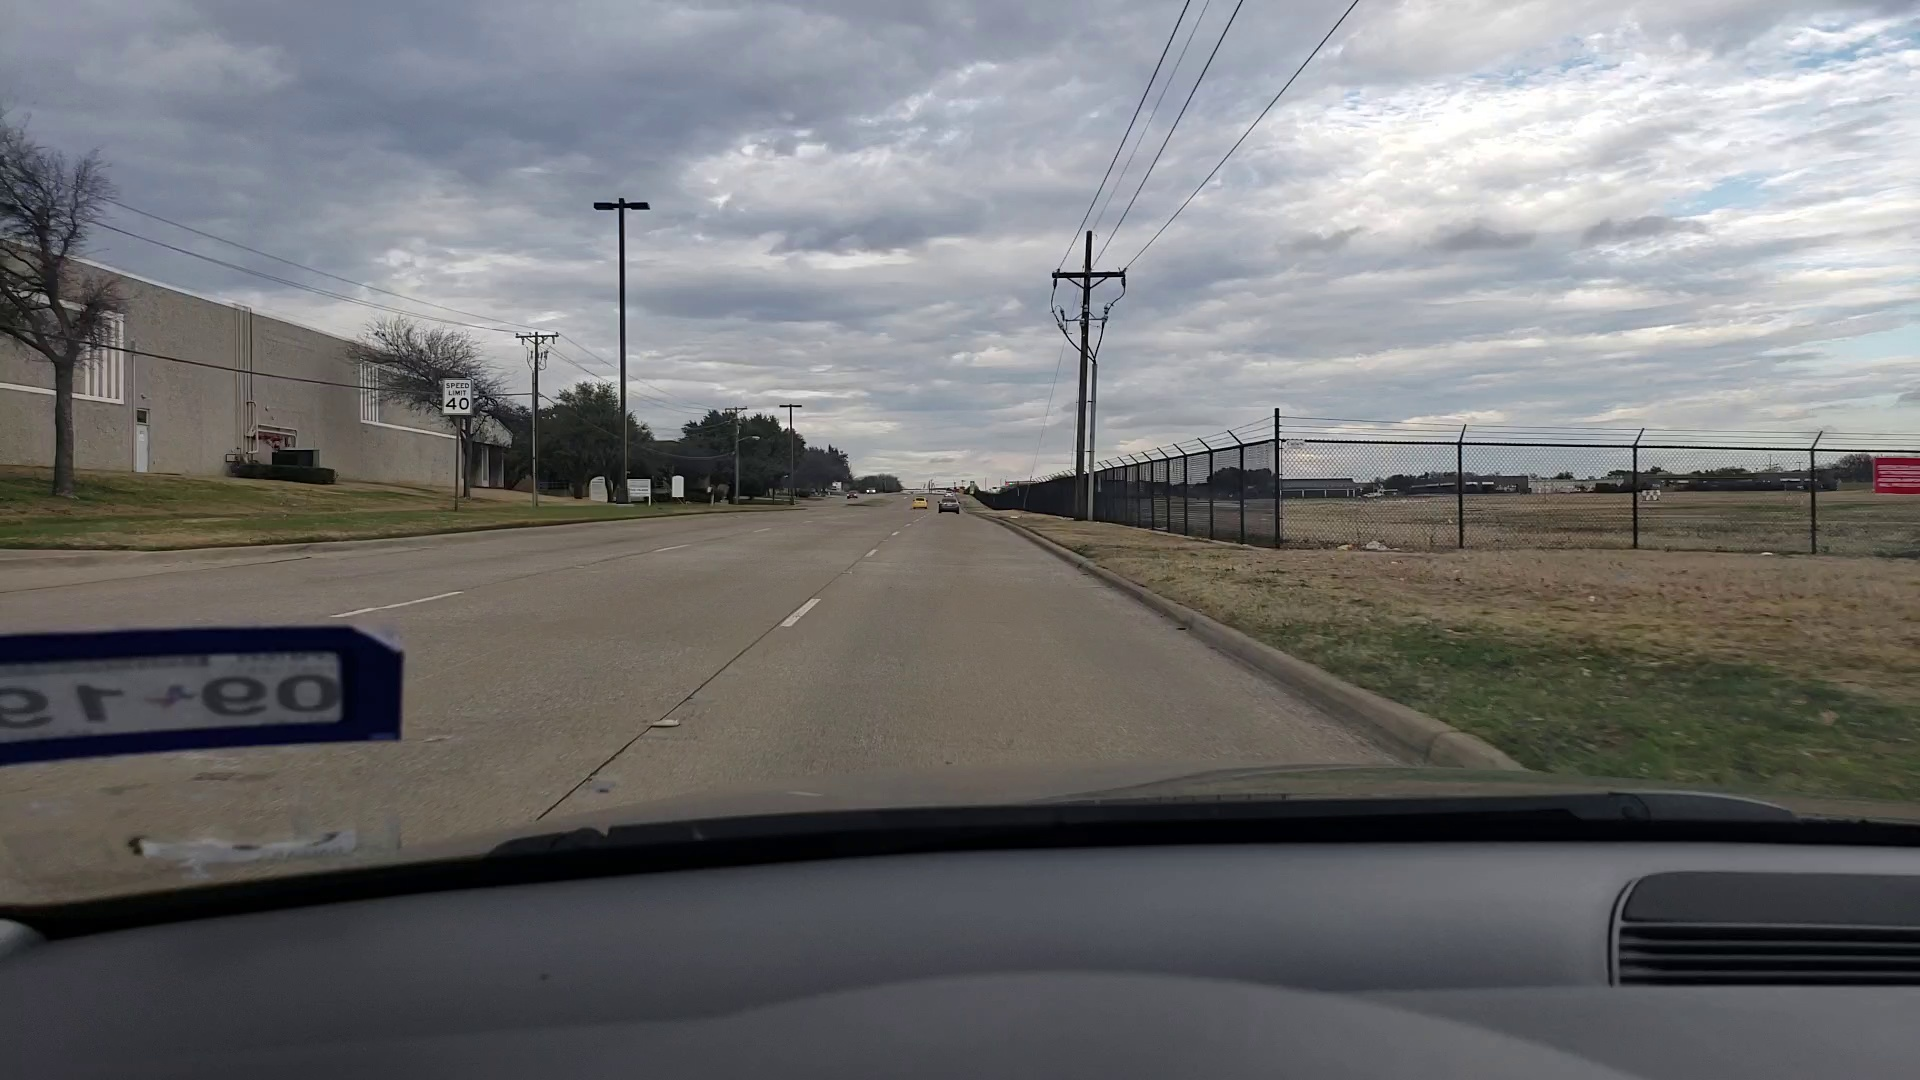car: (938, 497, 961, 513), (913, 497, 928, 510), (847, 491, 857, 498), (944, 491, 953, 498), (865, 487, 876, 493)
